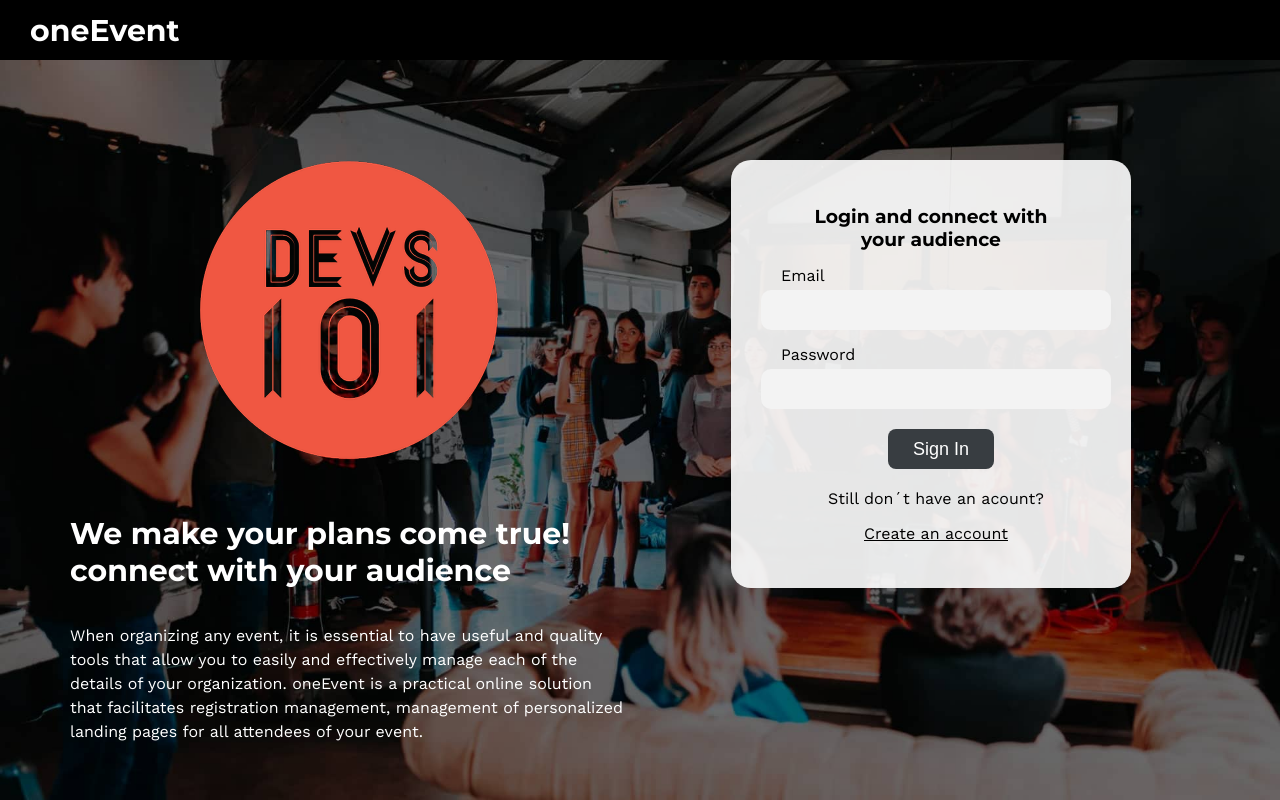
Test case: AuthPage pages › To change the form › is expected to have component SignUpForm after click
The width and height of the screenshot is (1280, 800).
Click the text "Create an account".
click(936, 534)  # box [864, 524, 1008, 543]
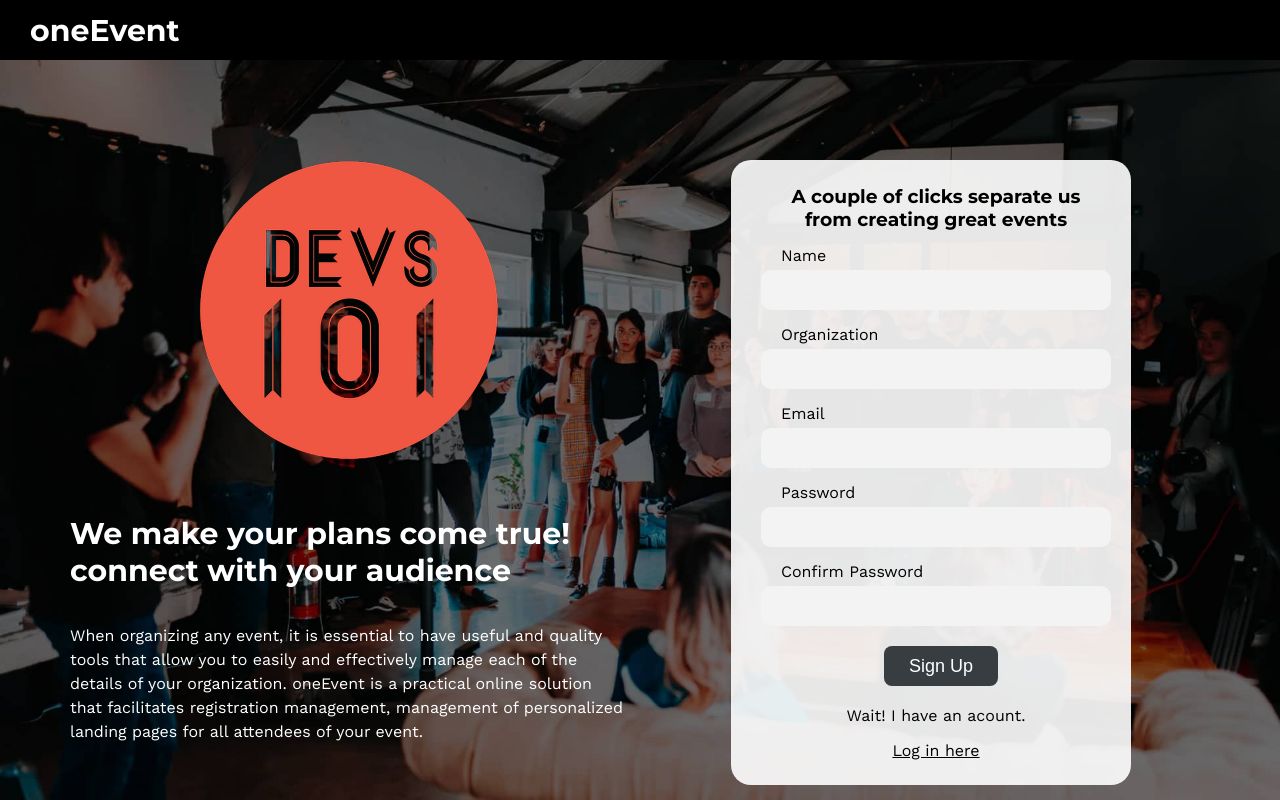
Expected: the number of "SignUpForm" components is 1, [731, 160, 1131, 785]
